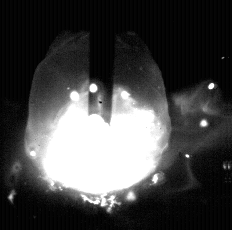arame: (89, 0, 113, 124)
poca: (24, 0, 171, 230)
